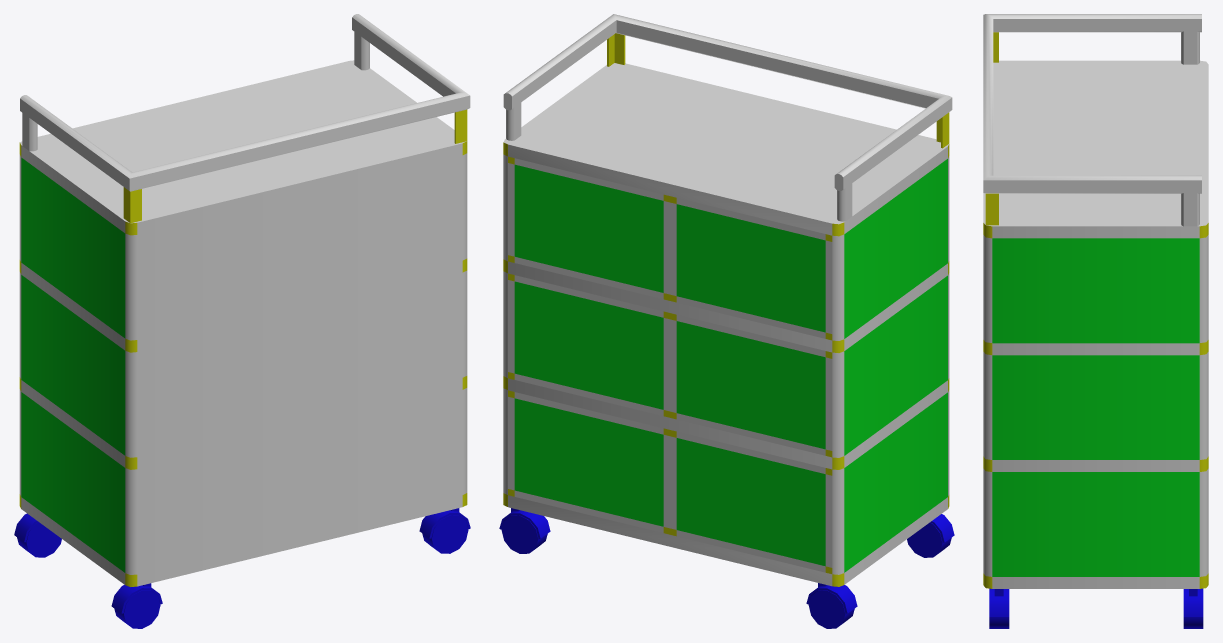
The model's file is aluminum_cabinet.FBX.
3 renders of one model, left to right at view 1: azimuth 30°, elevation 25°; view 2: azimuth 150°, elevation 25°; view 3: azimuth 270°, elevation 25°, orthographic.
Visible parts, largest first — view 1: Box001; view 2: Box001; view 3: Box001.
Part boxes in pixels (x1,y1,x2,y2): Box001: (14,14,470,628); Box001: (499,14,954,628); Box001: (983,14,1208,628).
Bounding box in the file's own units: 0.9078 × 0.508 × 1.14.
